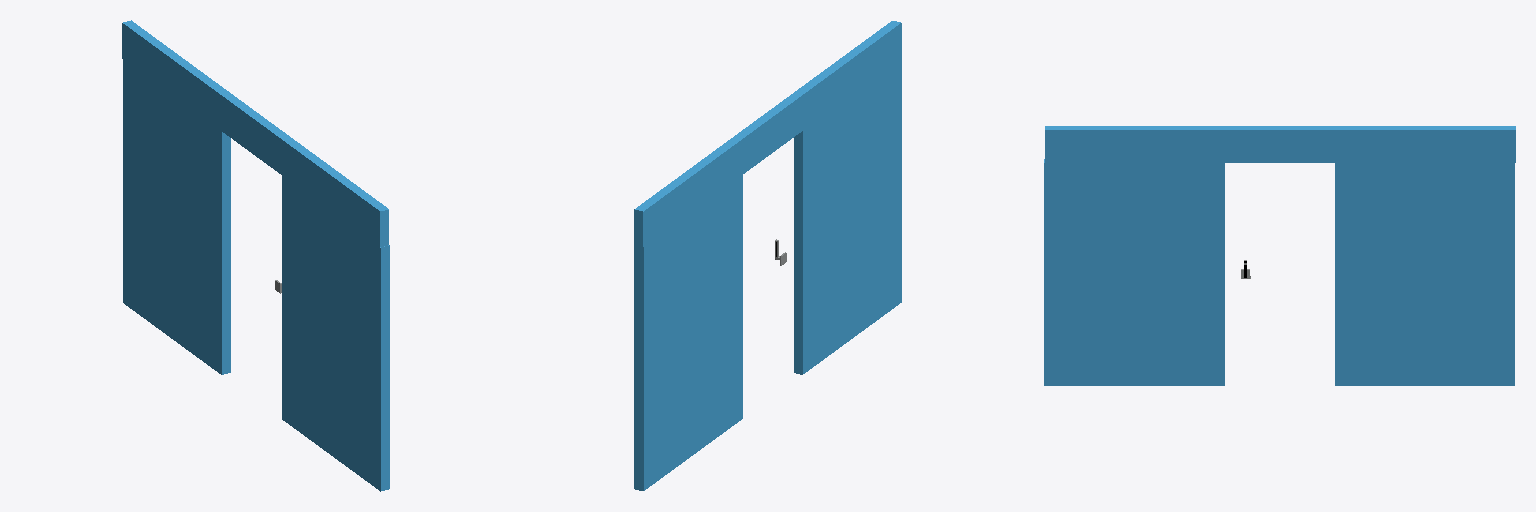
The robot description file, URDF, robot "door_test":
<robot name = 'door_test' xmlns:xacro="http://ros.org/wiki/xacro">
    <!-- <link name = 'world'/> -->
    
    <!-- <joint name = 'world2base' type = 'fixed'>
        <parent link = 'world'/>
        <child link = 'base_link'/>
    </joint> -->

    <link name = 'base_link'/>
        
    <joint name = 'base_joint' type = 'fixed'>
        <parent link = 'base_link'/>
        <origin xyz = '0 0.5 0.0' rpy='0 0 3.14159'/>
        <!-- if move y : the door will slide -->
        <child link = 'door_wall'/>
    </joint>

    <link name = 'door_wall'>
        <visual>
            <geometry>
                <box size='0.08 1.5 2.04'/>
            </geometry>
            <origin xyz = '0 -0.67 1.02' rpy = '0 0 0'/>
        </visual>
        <visual>
            <geometry>
                <box size='0.08 1.5 2.04'/>
            </geometry>
            <origin xyz = '0 1.74 1.02' rpy = '0 0 0'/>
        </visual>
        <visual>
            <geometry>
                <box size='0.08 3.91 0.3'/>
            </geometry>
            <origin xyz = '0 0.532 2.19' rpy = '0 0 0'/>
        </visual>

        <collision name="side_1_:hinge_side">
            <geometry>
                <box size='0.08 1.5 2.04'/>
            </geometry>
            <origin xyz = '0 -0.67 1.02' rpy = '0 0 0'/>
        </collision>
        <collision name="side_2">
            <geometry>
                <box size = '0.05029 0.06858 2.10820'/>
            </geometry>
            <origin xyz="-0.02 1.02 1.05" rpy="0 0 0"/>
        </collision>
        <collision>
            <geometry>
                <box size='0.08 1.5 2.04'/>
            </geometry>
            <origin xyz = '0 1.8 1.02' rpy = '0 0 0'/>
        </collision>
        <collision name="top">
            <geometry>
                <box size='0.08 3.91 0.3'/>
            </geometry>
            <origin xyz = '0 0.532 2.19' rpy = '0 0 0'/>
        </collision>
        <inertial>
            <origin xyz="0 0 0" rpy="0 0 0"/>
            <mass value="10000.0"/>
            <inertia ixx="0.0" ixy="0.0" ixz="0.0" iyy="0.0" iyz="0.0" izz="0.0"/>
        </inertial>
    </link>

    <joint name = 'door_hinge' type = 'revolute'>
        <axis xyz = '0 0 1' rpy = '0 0 0 '/>
        <origin xyz = '-0.07 0.06858 2.040'/>
        <limit lower = '0' upper = '1.57' effort='10000' velocity="100.00"/>
        <dynamics damping="25.0" friction="0.0"/>
        <parent link = 'door_wall'/>
        <child link = 'door'/>
    </joint>

    <link name = 'door'>
        <visual>
            <geometry>
                <mesh filename = './meshes/door.dae'/>
            </geometry>
            <origin xyz = '-0.05 0 0' rpy = '-1.57 0 1.57'/>
            <color rgba = '0.5 0.5 0.5 1.0'/>
        </visual>
        <collision name="door_collision">
            <geometry>
                <mesh filename = './meshes/door.dae'/>
            </geometry>
            <origin xyz = '-0.05 0 0' rpy = '-1.57 0 1.57'/>
        </collision>
        <inertial>
            <origin xyz="0.4569 0.0349 1.016" rpy="0 0 0"/>
            <mass value="41.3256"/>
            <inertia ixx="14.2053" ixy="0.0004" ixz="0.0000" iyy="17.1997" iyz="0.0000" izz="3.0298"/>
        </inertial>
    </link>

    <joint name = 'door_handle' type = 'revolute'>
        <axis xyz = '1 0 0' rpy = '0 0 0 '/>
        <parent link = 'door'/>
        <origin xyz = '0.035 0.75 -1.02'/>
        <limit lower = '0' upper = '0.5236' effort='100' velocity="1000.00"/>
        <dynamics damping="0.01" friction="0.0"/>
        <child link = 'door_handles'/>
    </joint>

    <link name = 'door_handles'>
        <visual>
            <geometry>
                <mesh filename = './meshes/handle_5.dae' scale='0.04 0.04 0.04'/>
            </geometry>
            <origin xyz = '0 0 0' rpy = '-1.57 3.141592 0'/>
            <color rgba = '0.55 0.5 0.5 1.0'/>
        </visual>
        <!-- <visual>
            <geometry>
                <mesh filename = './meshes/with_plate.dae' scale='0.04 0.04 0.04'/>
            </geometry>
            <origin xyz = '0.04 0 0' rpy = '0 0 -1.57'/>
             <color rgba = '0.5 0.5 0.5 1.0'/>
        </visual> -->
        <collision name="door_handles_collision">
            <geometry>
                <mesh filename="./meshes/handle_5_collision.dae" scale='0.04 0.04 0.04'/>
            </geometry>
            <origin xyz = '0 0 0' rpy = '-1.57 3.141592 0'/>
        </collision>
        <!-- <collision name="door_handles_collision">
            <geometry>
                <mesh filename="./meshes/with_plate_collision.dae" scale='0.04 0.04 0.04'/>
            </geometry>
            <origin xyz = '0.045 0 0' rpy = '0 0 -1.57'/>
        </collision> -->
        <inertial>
            <origin xyz="0.0 0.0 0.0" rpy="3.14159 0 1.57"/>
            <mass value="1.0"/>
            <!-- <inertia ixx="14.2053" ixy="0.0004" ixz="0.0000" iyy="17.1997" iyz="0.0000" izz="3.0298"/> -->
        </inertial>
    </link>
    
    <joint name = 'handle2latch' type = 'fixed'>
        <parent link = 'door_handles'/>
        <child link = 'door_latch'/>
    </joint>

    <link name='door_latch'>
        <collision>
            <geometry>
                <box size='0.001 0.14 0.01'/>
            </geometry>
            <origin xyz = '0.043 0.1 0' rpy = '0 0 0'/>
        </collision>
    </link>
    <!-- <gazebo reference="world">
        <material>Gazebo/Red</material>
    </gazebo> -->

</robot>

--- Facts derived from the render (not from the file) ---
3 views of the same robot in one strip: view 1: azimuth 30°, elevation 25°; view 2: azimuth 150°, elevation 25°; view 3: azimuth 270°, elevation 25° (orthographic).
Robot: door_test — 5 links, 4 joints (2 revolute, 2 fixed); root link base_link; default pose: all joints at 0.
Links seen in each view (by area): view 1: door_wall; view 2: door_wall; view 3: door_wall.
Link boxes in pixels (<box>): door_wall: <box>122,20,389,491</box>; door_wall: <box>634,21,901,490</box>; door_wall: <box>1044,126,1515,385</box>.
Bounding box of the posed robot: 0.136 × 3.91 × 2.34 m (x, y, z).
1 mesh visuals loaded from 2 distinct referenced files (1 Collada DAE); not drawn: 1 (reference not matched to a file when rendering).